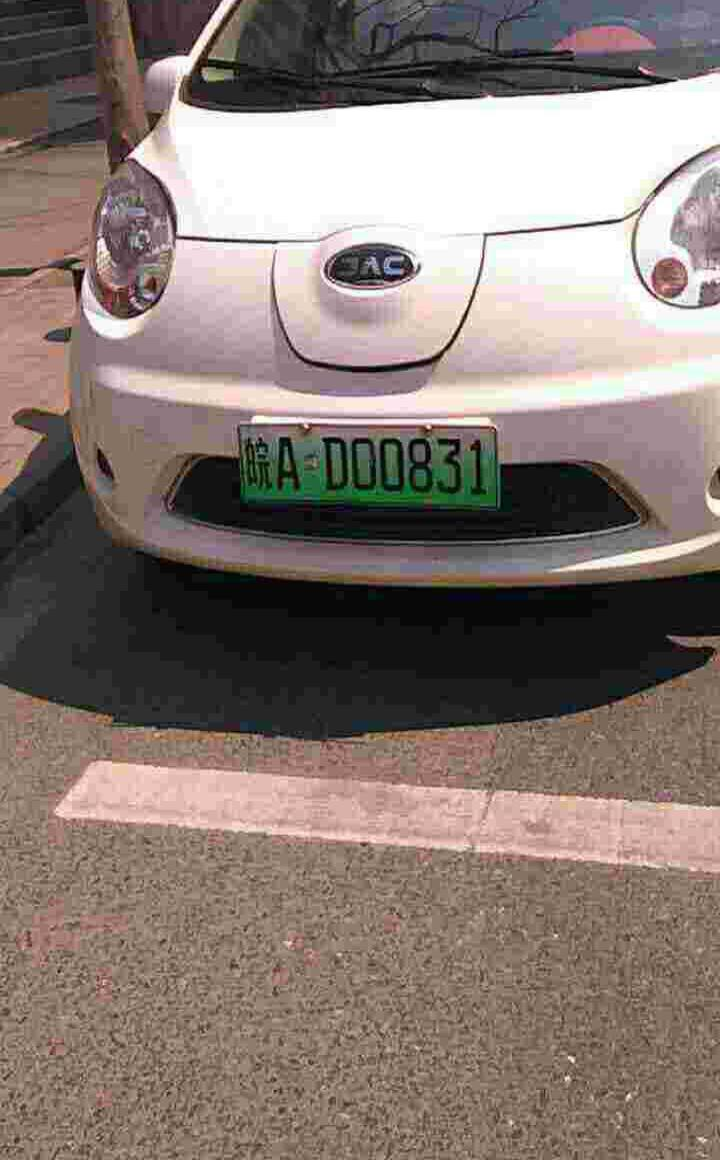car_id: (237, 423, 498, 508)
